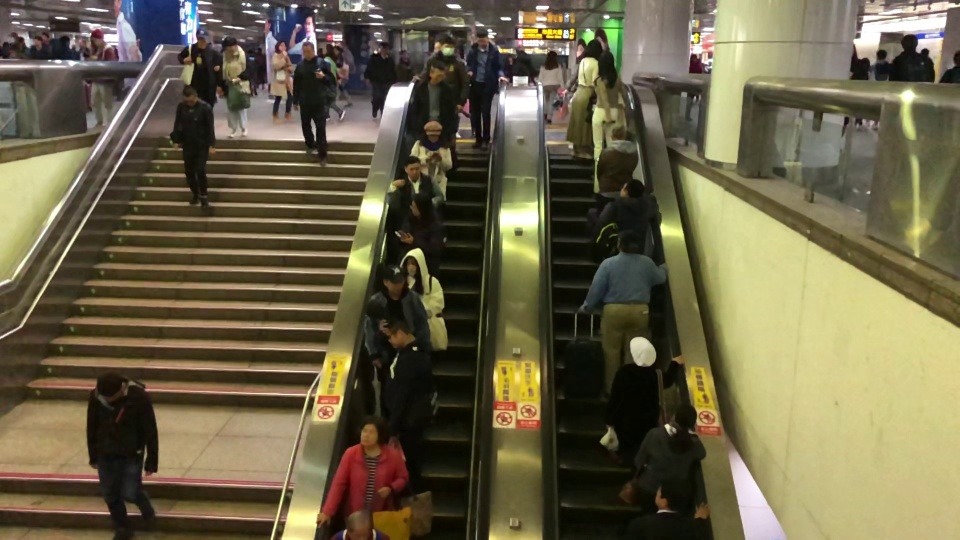person_head: (356, 413, 388, 446), (653, 479, 687, 509), (344, 508, 374, 540), (96, 369, 125, 400), (385, 317, 408, 347), (617, 228, 643, 253), (632, 343, 657, 367), (672, 403, 698, 426), (380, 271, 404, 295), (409, 193, 431, 217), (619, 179, 645, 199), (429, 60, 446, 83), (403, 156, 421, 177), (598, 51, 616, 72), (424, 122, 440, 141), (900, 33, 918, 49), (439, 37, 455, 54), (181, 86, 196, 103), (302, 40, 315, 59), (405, 254, 418, 273), (612, 126, 631, 139), (584, 42, 598, 57), (476, 28, 488, 45), (224, 38, 237, 52), (195, 30, 208, 43), (275, 39, 288, 52), (91, 30, 103, 44), (546, 50, 557, 61), (7, 32, 18, 43), (379, 42, 388, 55), (953, 48, 960, 63), (32, 36, 42, 46), (860, 57, 870, 67), (876, 49, 886, 59), (325, 44, 334, 55), (402, 50, 408, 60), (516, 46, 524, 53), (920, 48, 928, 55), (690, 52, 697, 59)
person_vbox: (577, 228, 668, 398), (86, 368, 160, 540), (316, 413, 408, 530), (603, 343, 685, 461), (634, 403, 707, 503), (363, 272, 432, 368), (381, 317, 434, 433), (169, 85, 217, 211), (591, 50, 628, 196), (464, 28, 507, 152), (292, 40, 333, 166), (594, 179, 656, 259), (629, 479, 710, 538), (404, 254, 449, 351), (412, 36, 470, 110), (409, 60, 460, 139), (566, 43, 599, 161), (218, 38, 255, 138), (408, 122, 453, 201), (177, 29, 221, 104), (387, 156, 444, 210), (596, 126, 638, 199), (398, 193, 442, 261), (90, 30, 117, 127), (364, 41, 395, 117), (269, 39, 294, 120), (537, 49, 563, 125), (864, 49, 888, 131), (890, 34, 930, 81), (851, 57, 870, 129), (684, 52, 703, 122), (938, 48, 960, 84), (511, 46, 534, 77), (396, 49, 414, 81), (1, 33, 23, 59), (27, 36, 50, 59), (323, 44, 337, 76)
